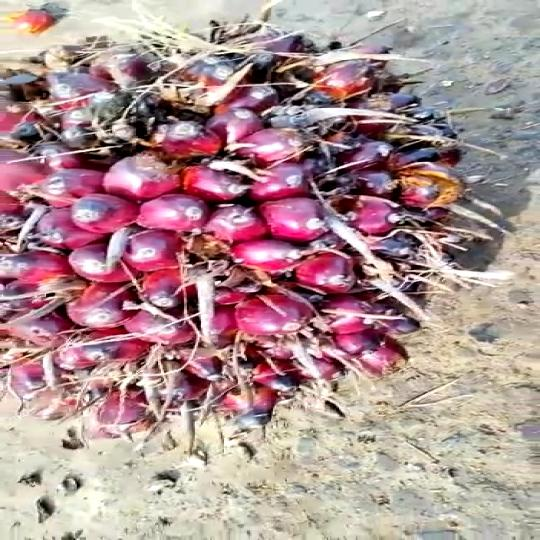masak: (0, 0, 517, 458)
